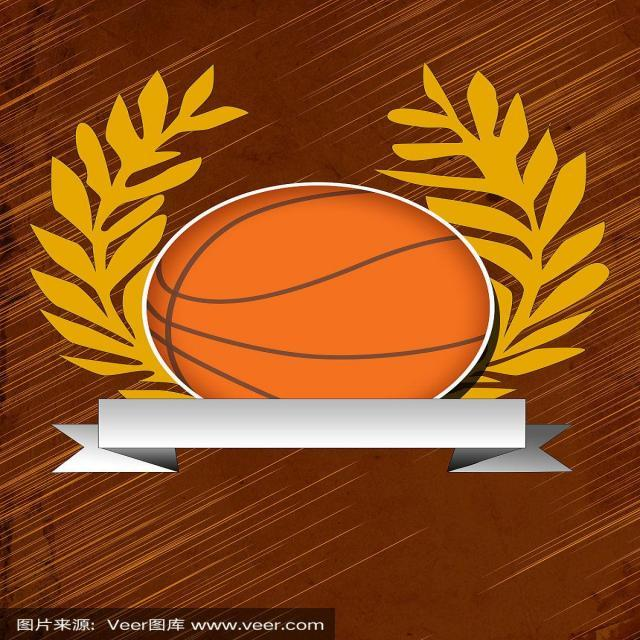rim: (147, 184, 496, 402)
